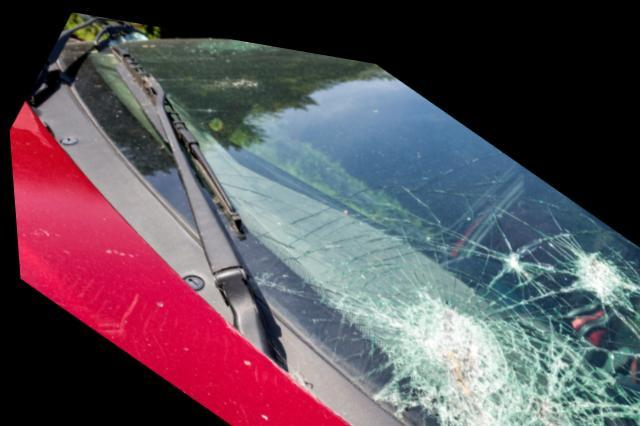glass shatter: (56, 31, 640, 426)
